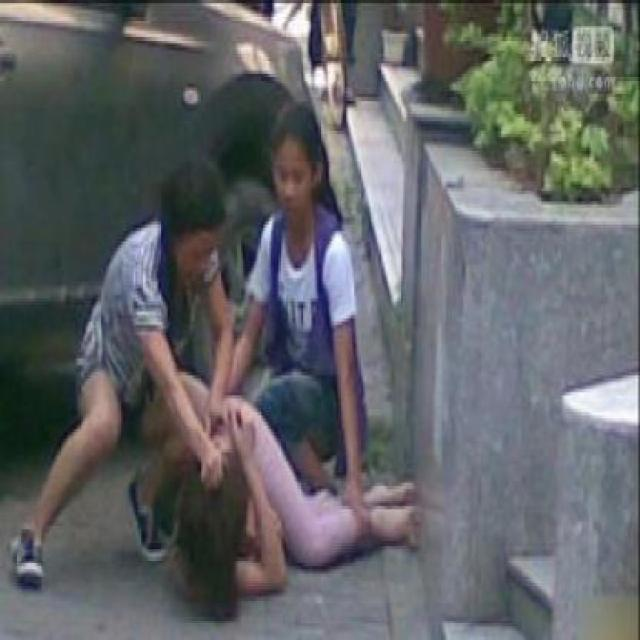fall: (162, 385, 422, 590)
